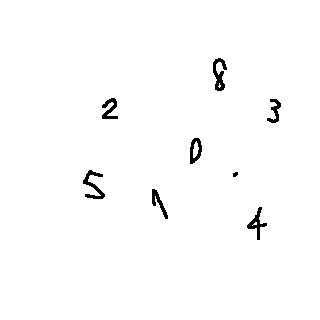.: (229, 162, 244, 184)
0: (184, 132, 214, 174)
1: (142, 175, 178, 228)
2: (90, 84, 126, 129)
3: (255, 94, 289, 131)
4: (245, 197, 279, 244)
5: (71, 165, 117, 206)
8: (204, 54, 234, 95)
